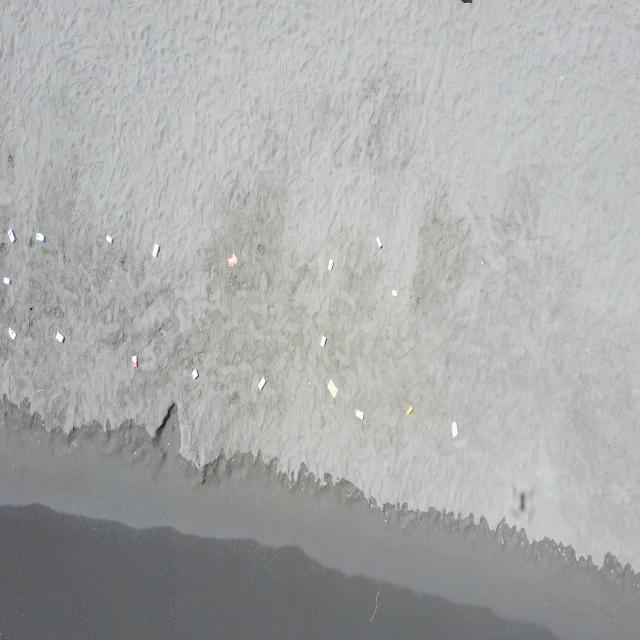retort-pouch: (327, 379, 338, 400), (8, 227, 17, 244), (228, 252, 238, 267), (152, 242, 160, 260), (8, 325, 17, 341), (35, 231, 46, 244), (257, 377, 267, 391), (55, 331, 65, 344), (131, 354, 139, 369), (320, 335, 328, 349), (356, 408, 364, 422), (375, 236, 383, 250), (452, 421, 458, 438), (105, 233, 114, 244), (327, 258, 334, 272), (192, 368, 200, 380), (3, 276, 12, 286), (406, 405, 414, 416), (392, 288, 398, 298)
